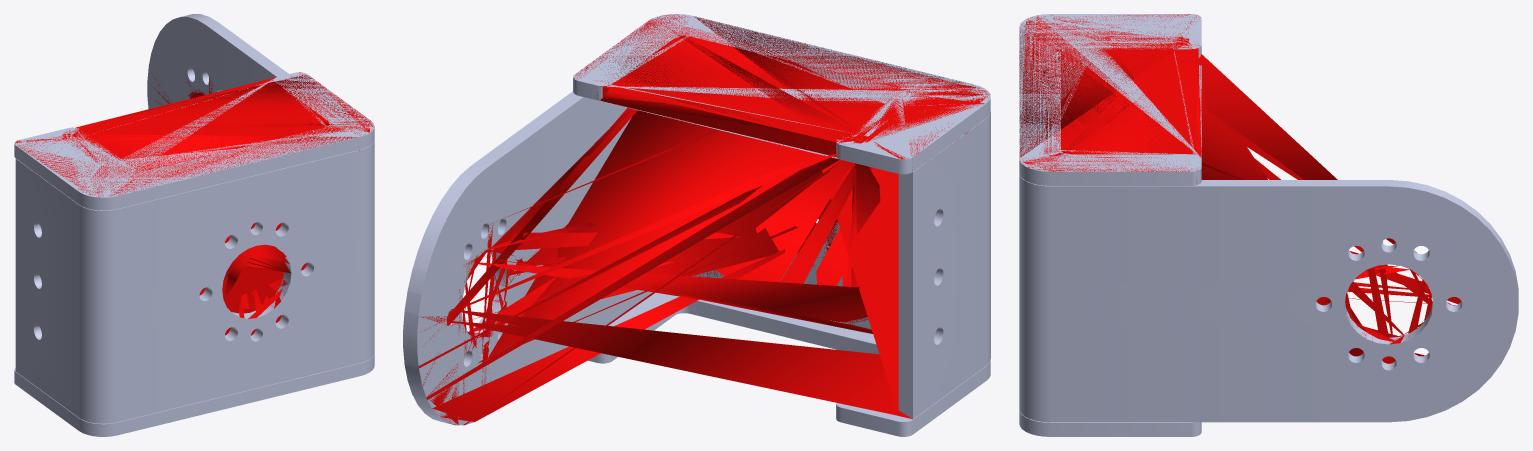
File: L_hip1_link.dae
The picture shows the model from 3 angles, left to right: view 1: azimuth 30°, elevation 25°; view 2: azimuth 150°, elevation 25°; view 3: azimuth 270°, elevation 25°; orthographic projection. The views are drawn at different scales.
Parts seen in each view (by area): view 1: node0, node2, node1; view 2: node2, node0, node1; view 3: node0, node2, node1.
Boxes of the visible parts, x1=… form: node0: x1=14, y1=14, x2=374, y2=436; node2: x1=15, y1=72, x2=373, y2=335; node1: x1=14, y1=72, x2=374, y2=210; node2: x1=418, y1=14, x2=990, y2=425; node0: x1=403, y1=14, x2=990, y2=436; node1: x1=573, y1=14, x2=990, y2=173; node0: x1=1019, y1=14, x2=1518, y2=436; node2: x1=1019, y1=14, x2=1461, y2=363; node1: x1=1019, y1=14, x2=1201, y2=185.
Size of the model in its own units: 0.0718 by 0.0562 by 0.0959.
